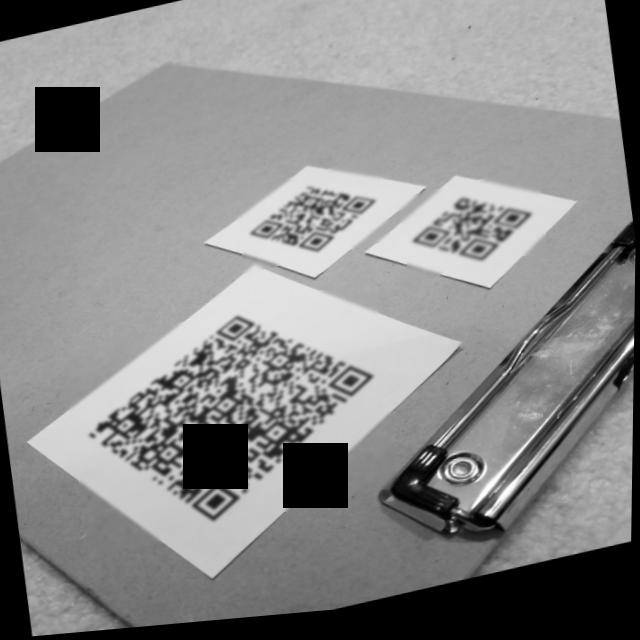QR_CODE: (61, 283, 404, 561), (234, 164, 393, 279), (397, 175, 550, 291)
